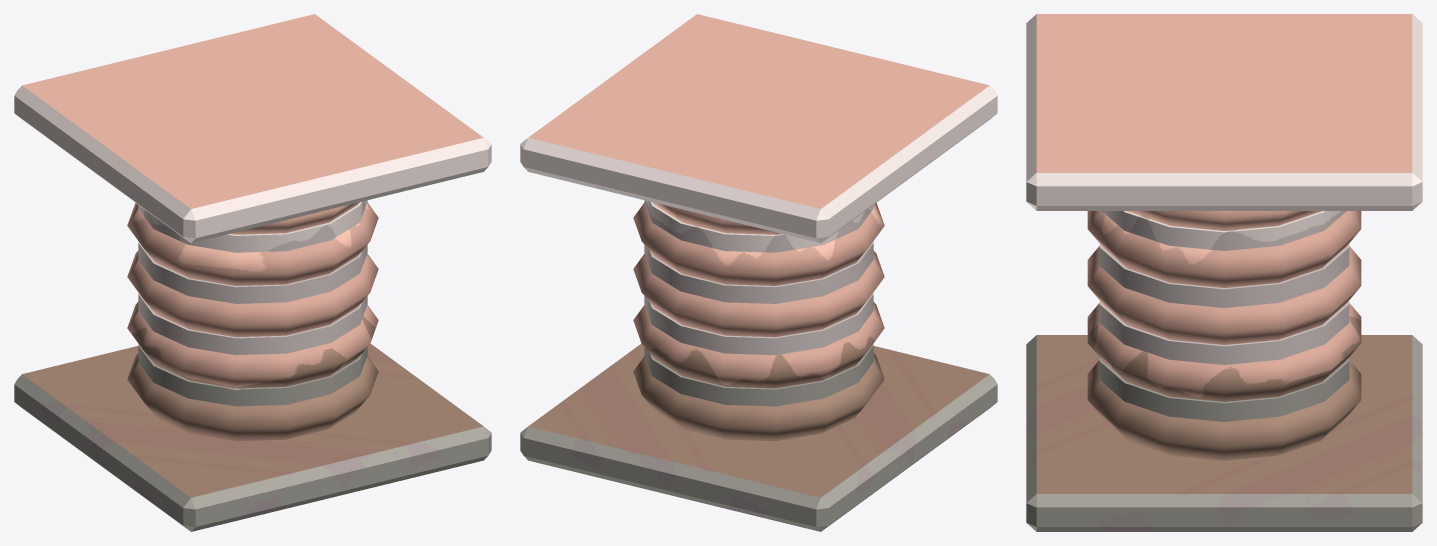
Rendered from R4X_Suspension_LOD1.glb.
3 renders of one model, left to right at view 1: azimuth 30°, elevation 25°; view 2: azimuth 150°, elevation 25°; view 3: azimuth 270°, elevation 25°, orthographic. The views are drawn at different scales.
Parts seen in each view (by area): view 1: R4X_Suspension_LOD1; view 2: R4X_Suspension_LOD1; view 3: R4X_Suspension_LOD1.
Boxes of the visible parts, box(x1,y1,x2,y2) form: R4X_Suspension_LOD1: box(14, 14, 491, 531); R4X_Suspension_LOD1: box(520, 14, 997, 531); R4X_Suspension_LOD1: box(1026, 14, 1422, 531).
Size of the model in its own units: 0.52 by 0.52 by 0.52.
5 materials, 4 textured.
